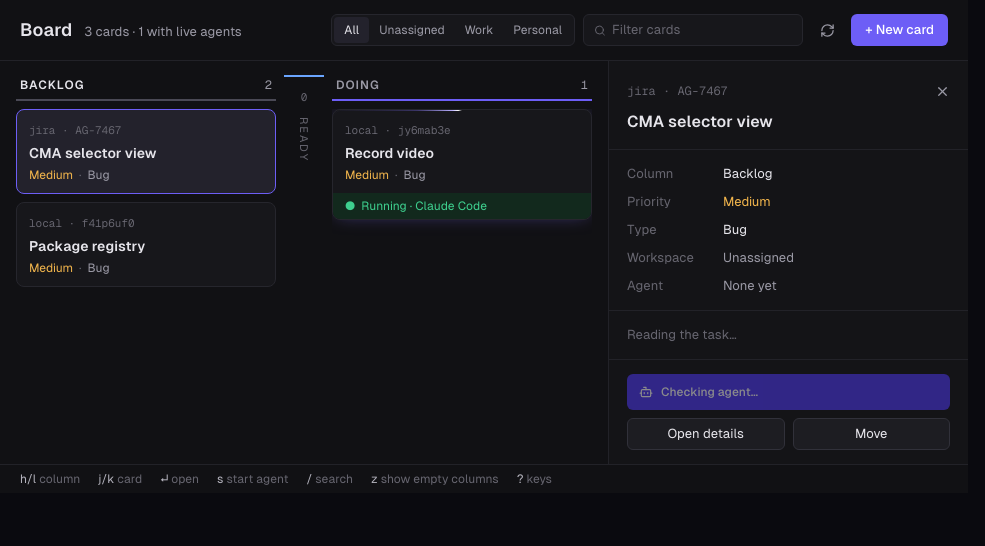
Test: Board layout › on a wide screen › hides the panel until another card is selected
Click the button named "Close task panel" at (942, 91), box [928,77,956,105]
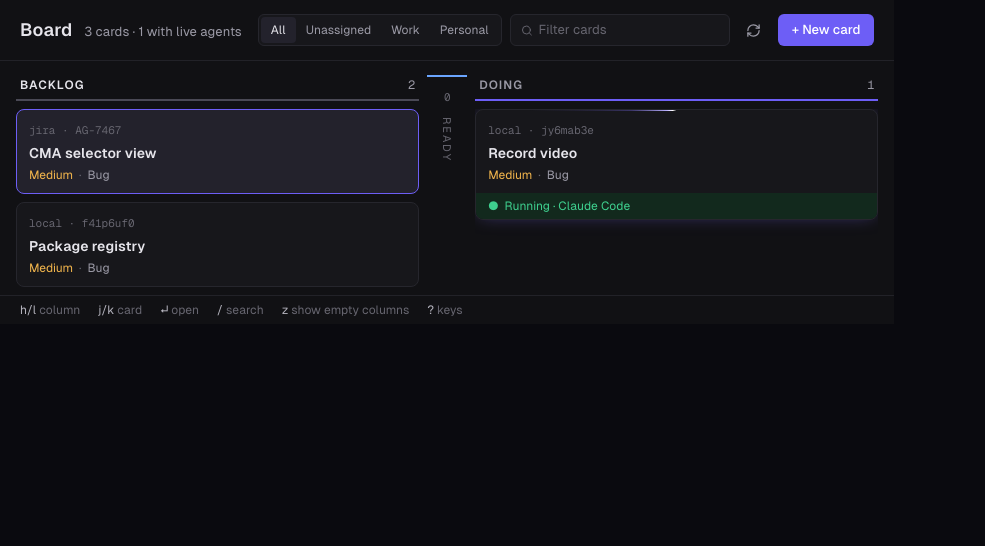
Press j
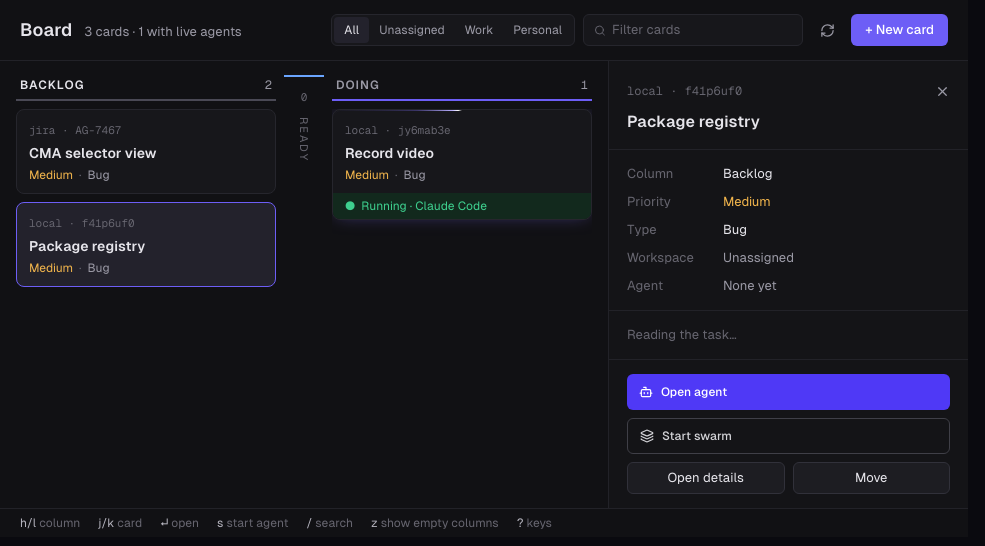
Expected: the heading "Package registry" is shown, [627,112,760,131]
